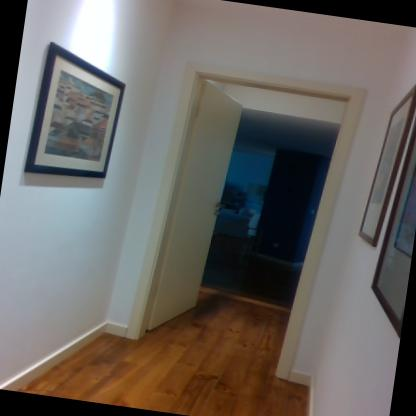closed: (132, 49, 380, 386)
